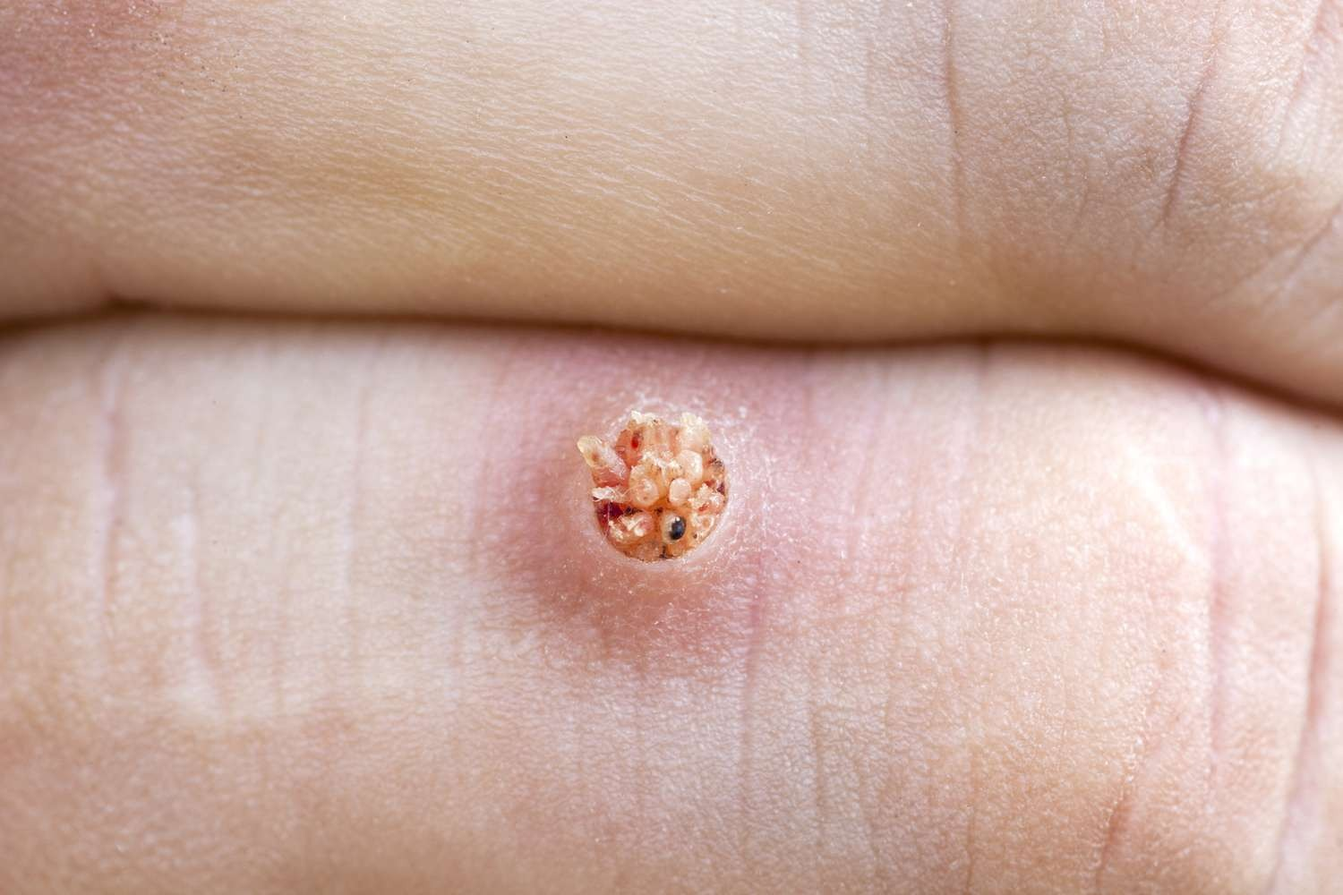Warts: (546, 374, 761, 604)
